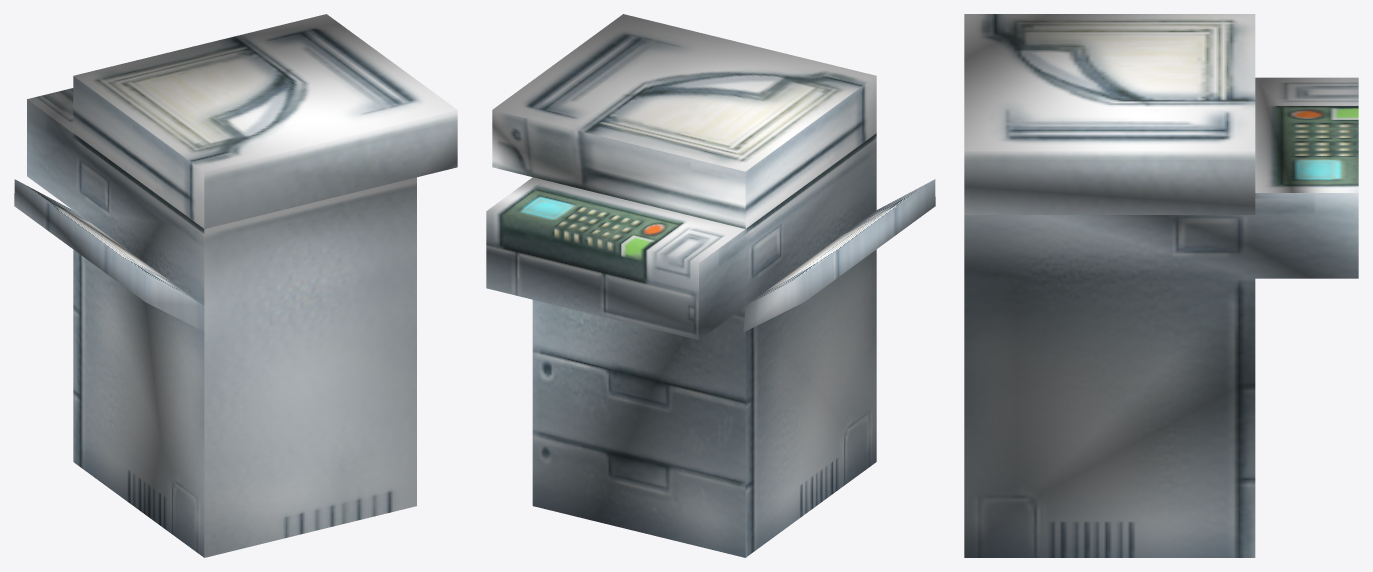
The model's file is a_SCgen15.glb.
3 renders of one model, left to right at view 1: azimuth 30°, elevation 25°; view 2: azimuth 150°, elevation 25°; view 3: azimuth 270°, elevation 25°, orthographic. The views are drawn at different scales.
Visible parts, largest first — view 1: a_SCgen15; view 2: a_SCgen15; view 3: a_SCgen15.
Boxes of the visible parts, x1,y1,x2,y2 form: a_SCgen15: (14,14,457,557); a_SCgen15: (486,14,935,557); a_SCgen15: (964,14,1358,557).
Size of the model in its own units: 0.9659 by 1.14 by 0.9508.
1 material, 1 textured.
